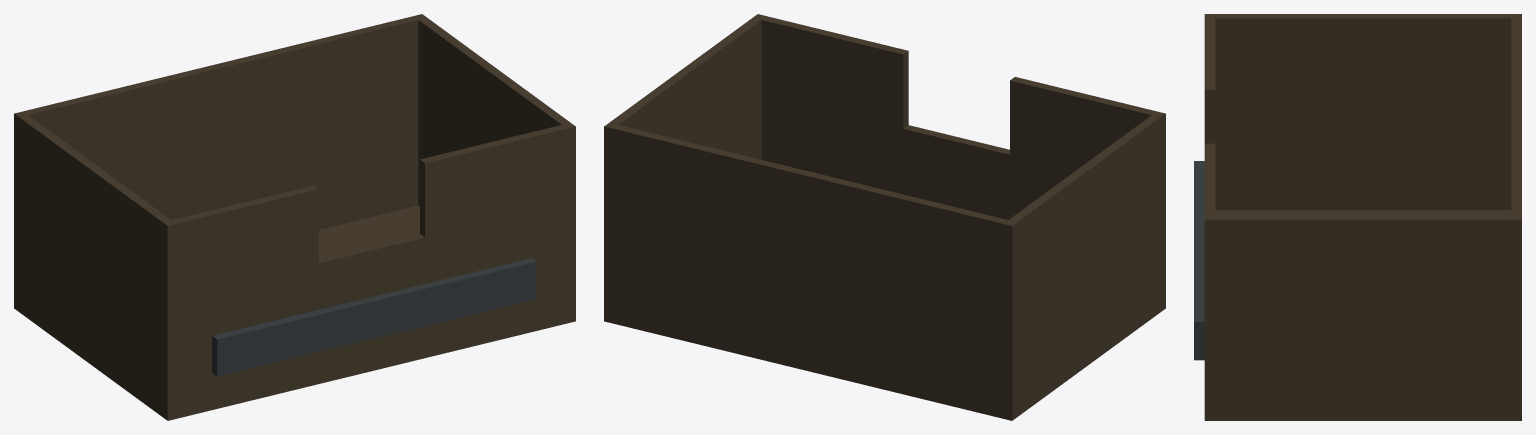
File: ammo_box_army_3_clips.glb
3 views of the same model, side by side, from view 1: azimuth 30°, elevation 25°; view 2: azimuth 150°, elevation 25°; view 3: azimuth 270°, elevation 25° (orthographic). The views are drawn at different scales.
Visible parts, largest first — view 1: ammo_box_army_3_clips:compound; view 2: ammo_box_army_3_clips:compound; view 3: ammo_box_army_3_clips:compound.
Part boxes in pixels (<box>): ammo_box_army_3_clips:compound: <box>14,14,575,420</box>; ammo_box_army_3_clips:compound: <box>604,14,1165,420</box>; ammo_box_army_3_clips:compound: <box>1194,14,1521,420</box>.
Size of the model in its own units: 0.092 by 0.042 by 0.062.
